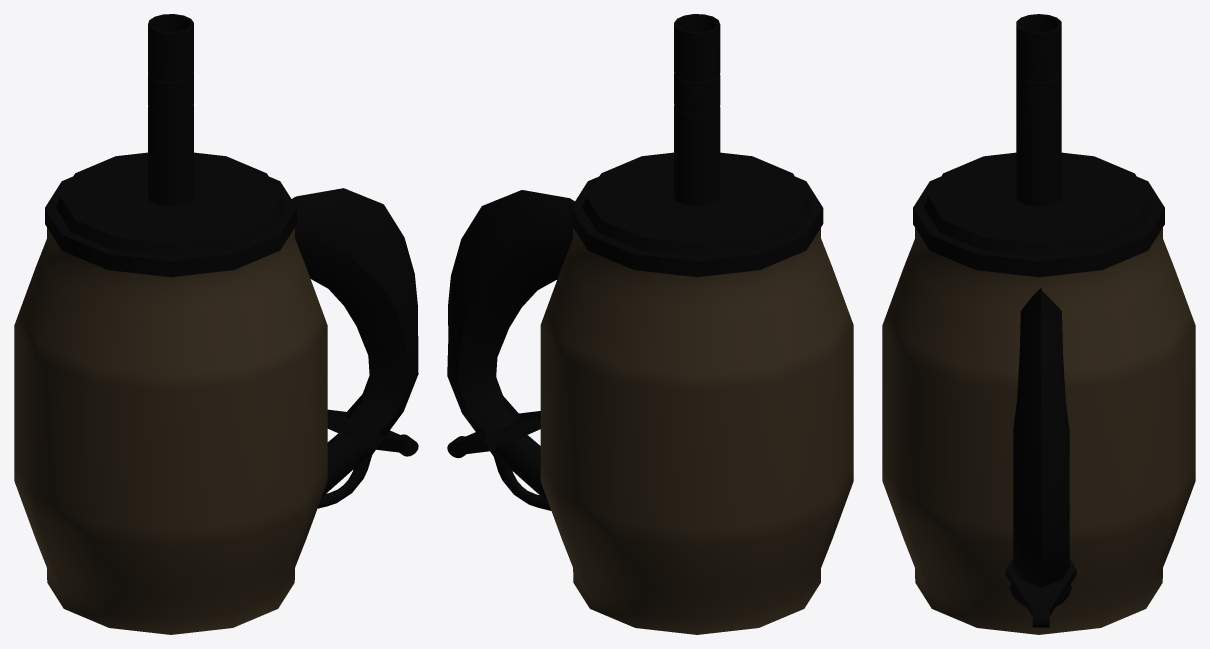
File: Barrel_Cup.fbx
The picture shows the model from 3 angles, left to right: view 1: azimuth 30°, elevation 25°; view 2: azimuth 150°, elevation 25°; view 3: azimuth 270°, elevation 25°; orthographic projection.
Visible parts, largest first — view 1: polySurface11; view 2: polySurface11; view 3: polySurface11.
Part boxes in pixels (x1=…): polySurface11: x1=14, y1=14, x2=418, y2=634; polySurface11: x1=447, y1=14, x2=853, y2=634; polySurface11: x1=882, y1=14, x2=1195, y2=634.
Size of the model in its own units: 3.27 by 4.56 by 2.32.
